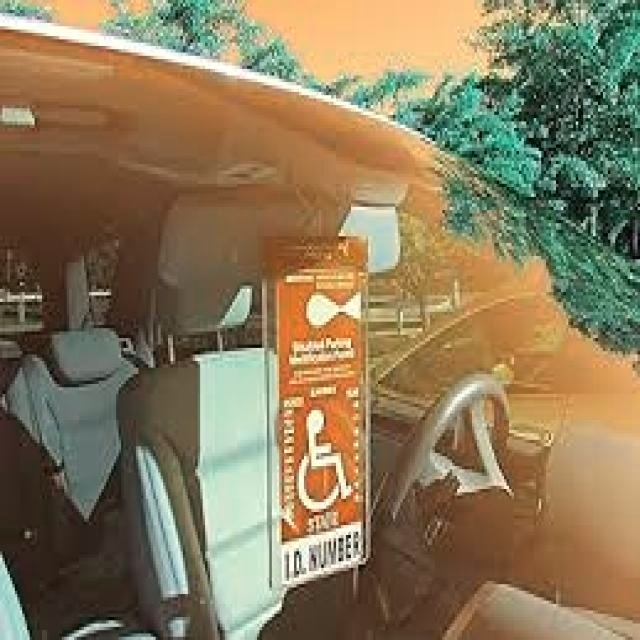ISA: (299, 405, 352, 511)
